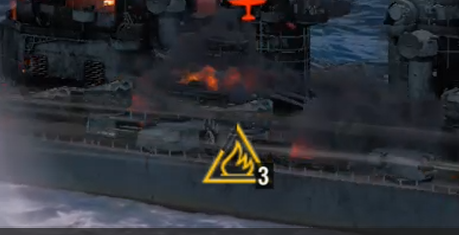3fire: (199, 145, 275, 191)
